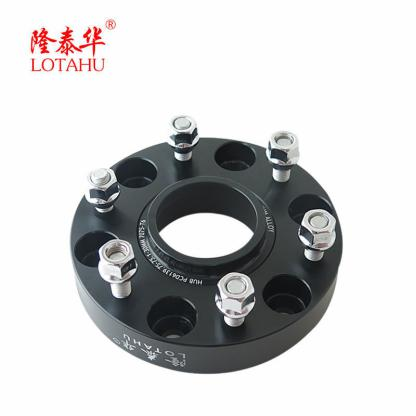FOD: (57, 129, 351, 375)
